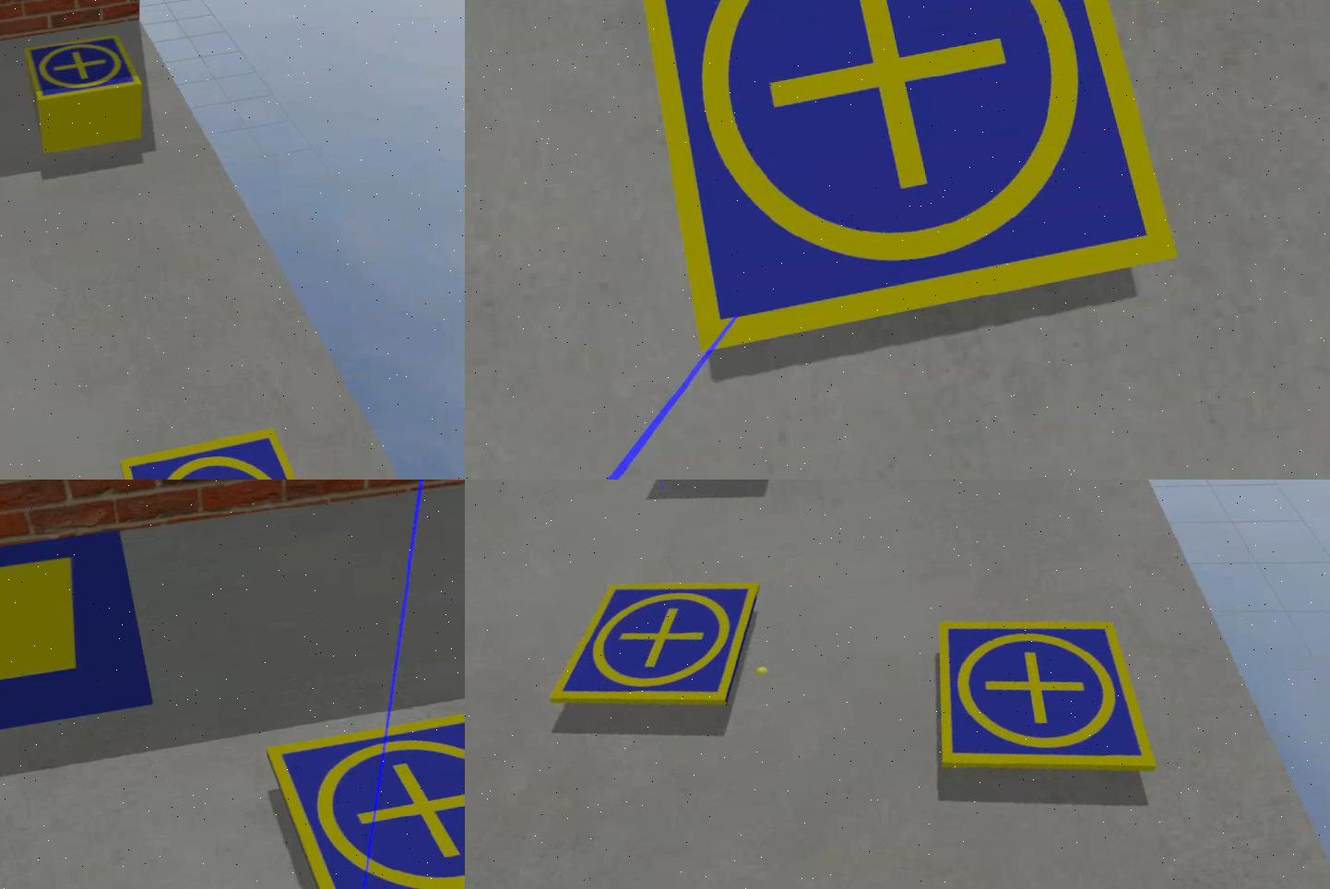large_base: (1, 529, 158, 769)
small_base: (625, 1, 1184, 364), (928, 602, 1163, 790), (266, 706, 466, 889), (540, 569, 771, 721), (119, 423, 329, 480), (25, 31, 147, 104)
